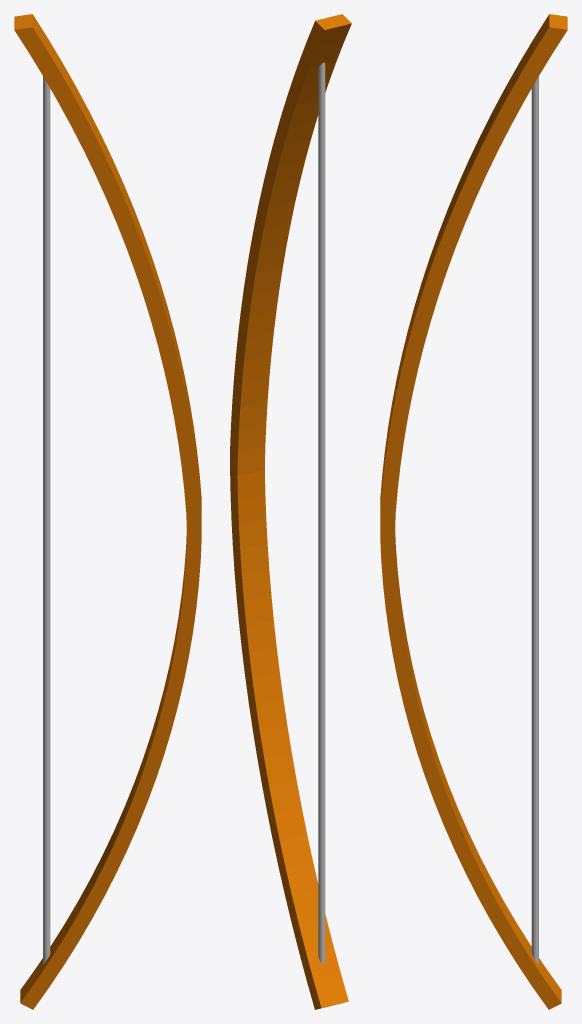
File: Arrow.obj
The picture shows the model from 3 angles, left to right: view 1: azimuth 90°, elevation 25°; view 2: azimuth 210°, elevation 25°; view 3: azimuth 270°, elevation 25°; orthographic projection.
Visible parts, largest first — view 1: 円柱.001; view 2: 円柱.001; view 3: 円柱.001.
Boxes of the visible parts, left/top/right/bottom form: 円柱.001: left=14, top=14, right=201, bottom=1009; 円柱.001: left=230, top=14, right=351, bottom=1009; 円柱.001: left=380, top=14, right=567, bottom=1009.
Size of the model in its own units: 0.0261 by 0.9014 by 0.156.
